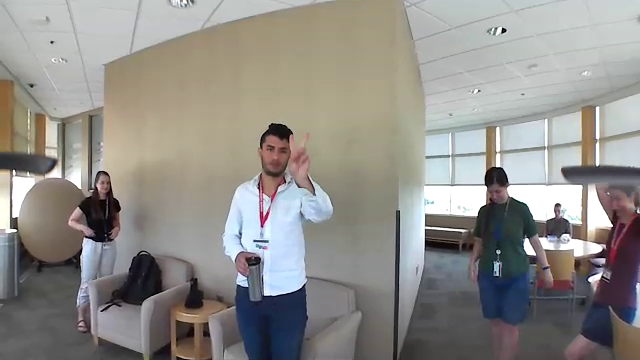peace: (283, 124, 322, 184)
